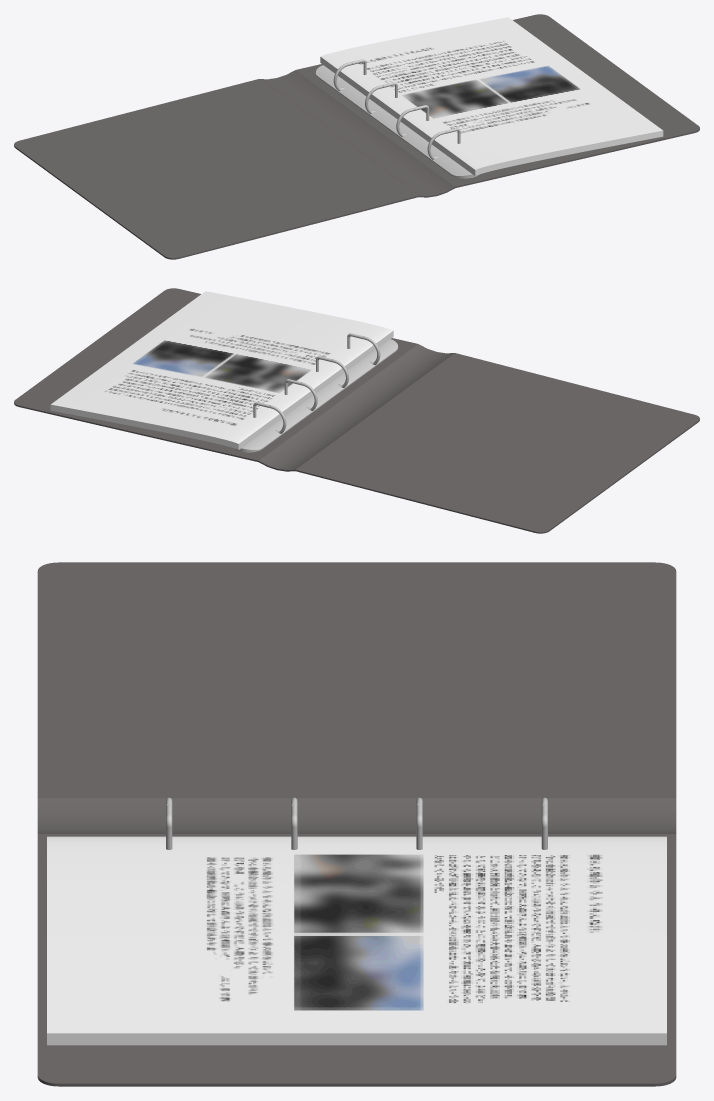
File: 468_リングファイル開中身あり.glb
3 views of the same model, one above another, from view 1: azimuth 30°, elevation 25°; view 2: azimuth 150°, elevation 25°; view 3: azimuth 270°, elevation 25° (orthographic). The views are drawn at different scales.
Parts seen in each view (by area): view 1: 468_ring_file_open_with_contents; view 2: 468_ring_file_open_with_contents; view 3: 468_ring_file_open_with_contents.
Part boxes in pixels (box(x1,y1,x2,y2)): 468_ring_file_open_with_contents: box(14, 14, 699, 259); 468_ring_file_open_with_contents: box(14, 288, 699, 533); 468_ring_file_open_with_contents: box(37, 562, 676, 1086).
Size of the model in its own units: 0.591 by 0.0334 by 0.306.
Materials: 5 (1 with a texture image).
